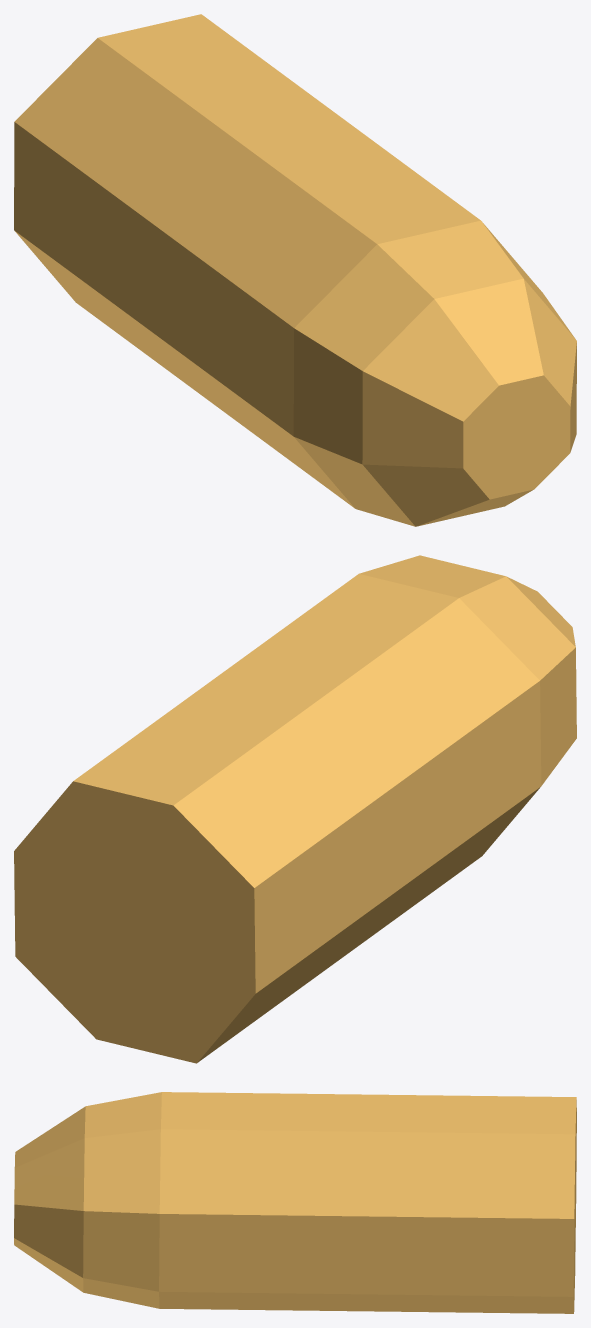
Rendered from bullet.fbx.
3 renders of one model, top to bottom at view 1: azimuth 30°, elevation 25°; view 2: azimuth 150°, elevation 25°; view 3: azimuth 270°, elevation 25°, orthographic. The views are drawn at different scales.
Parts seen in each view (by area): view 1: GUli; view 2: GUli; view 3: GUli.
Part boxes in pixels (x1=…): GUli: x1=14, y1=14, x2=576, y2=526; GUli: x1=14, y1=555, x2=576, y2=1063; GUli: x1=14, y1=1092, x2=576, y2=1313.
Size of the model in its own units: 1.95 by 1.93 by 5.15.
